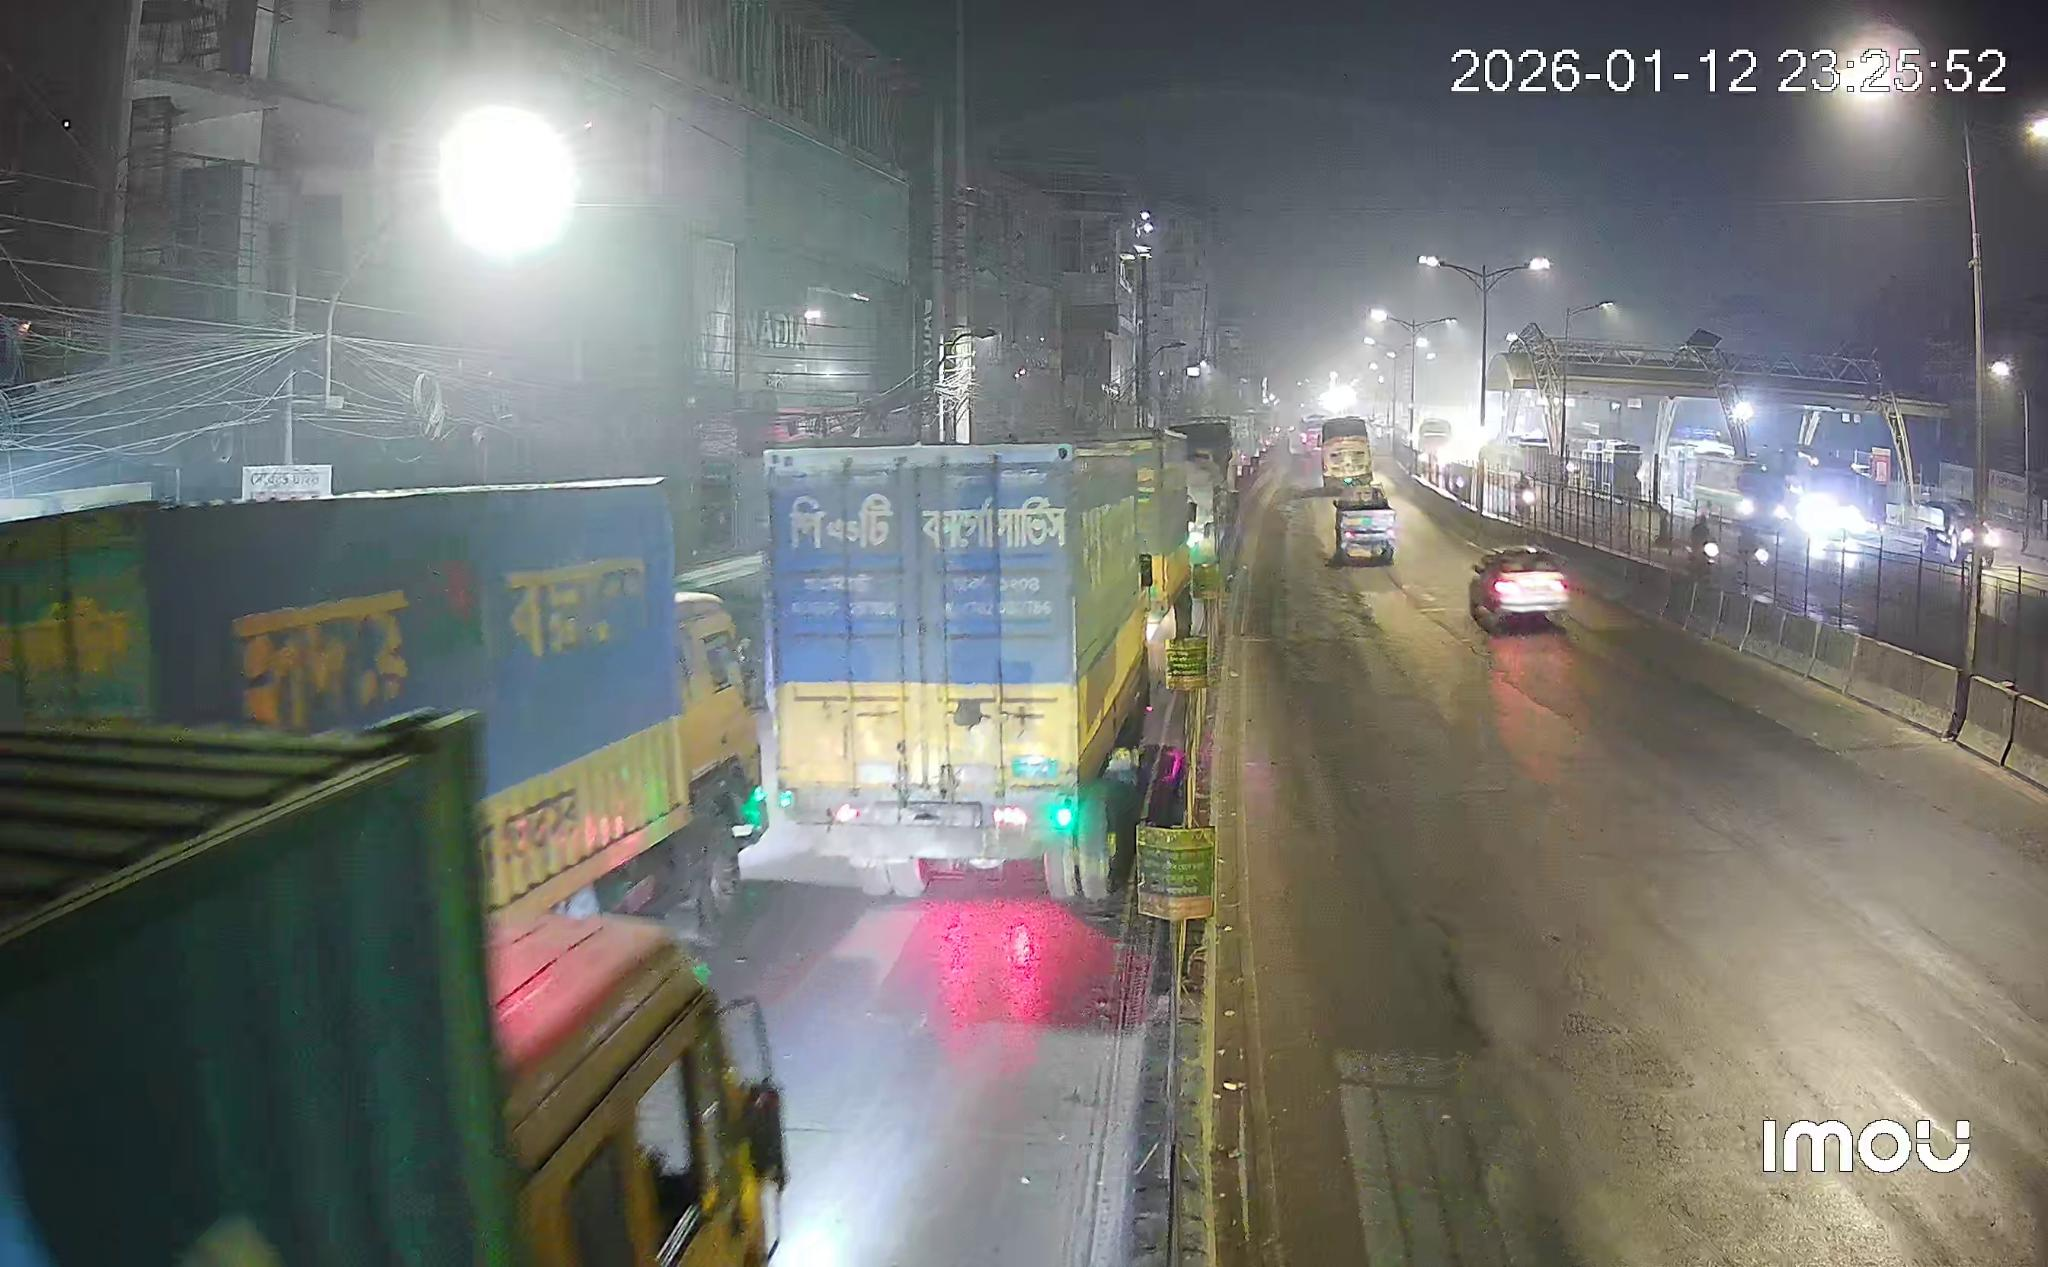Private-Sedan Car: (1467, 546, 1568, 632)
Truck: (0, 711, 781, 1267), (0, 478, 764, 929), (765, 442, 1148, 900), (1336, 484, 1397, 563)
